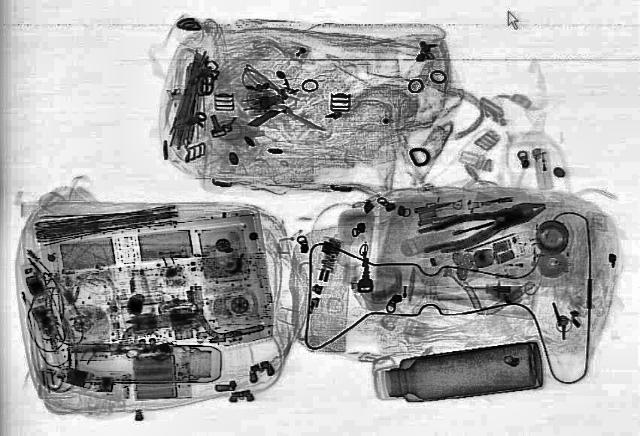Pliers: (419, 191, 557, 255)
